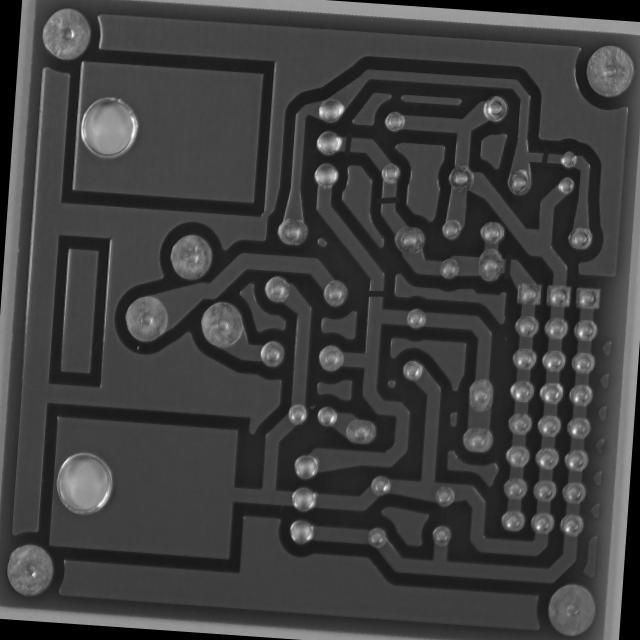open_circuit: (360, 282, 389, 304), (372, 190, 402, 210), (532, 144, 552, 170), (500, 251, 518, 279), (339, 130, 356, 156)
